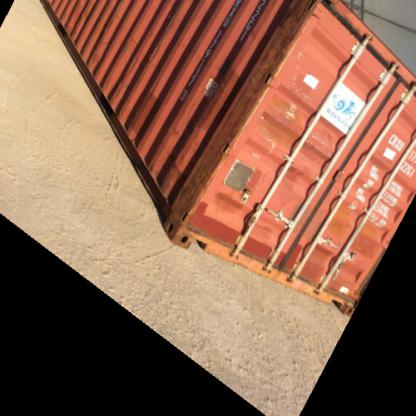Damage: (176, 114, 228, 221), (265, 0, 307, 68), (108, 75, 122, 110), (148, 38, 163, 70), (67, 13, 87, 37), (239, 176, 253, 208), (260, 106, 272, 141)
